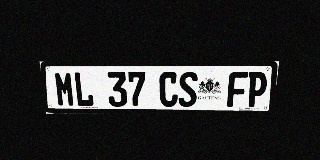3: (107, 72, 127, 107)
7: (127, 72, 146, 107)
C: (159, 72, 178, 107)
F: (227, 72, 248, 107)
L: (73, 72, 94, 107)
M: (54, 72, 75, 107)
P: (246, 72, 268, 107)
S: (178, 72, 198, 107)
